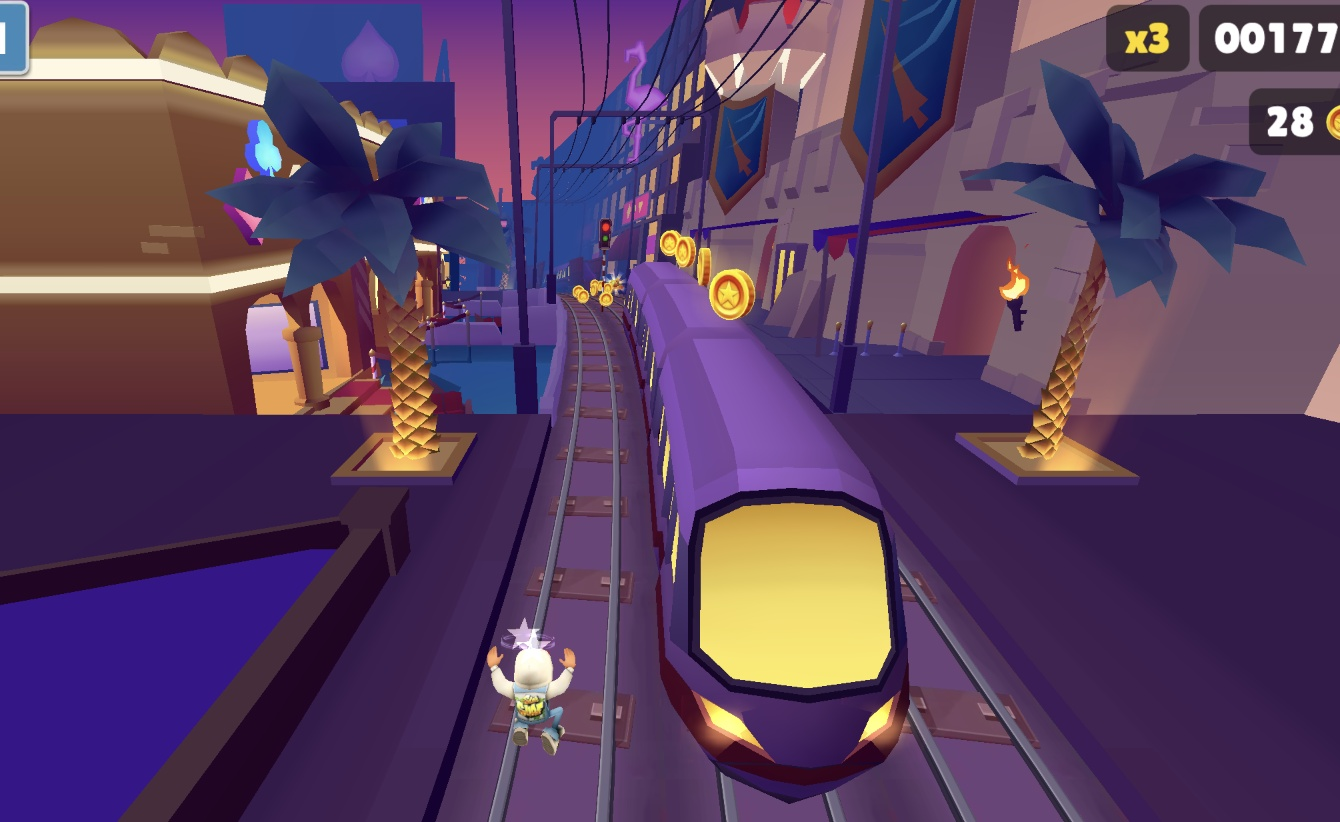train: (628, 267, 915, 786), (554, 266, 578, 300)
